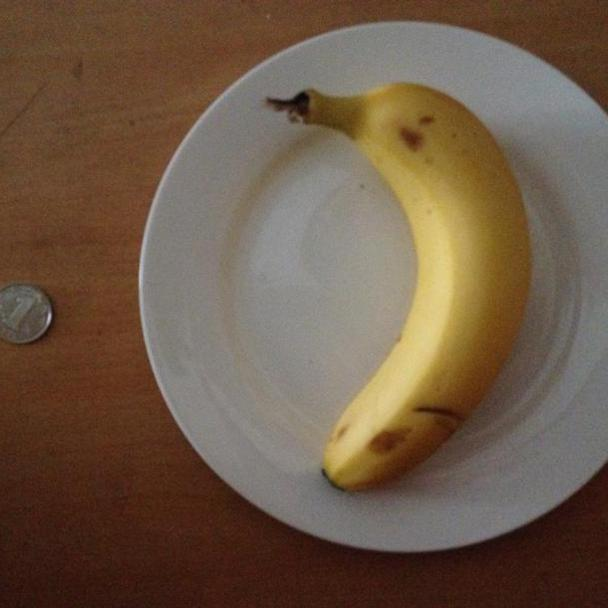banana: (266, 77, 536, 492)
